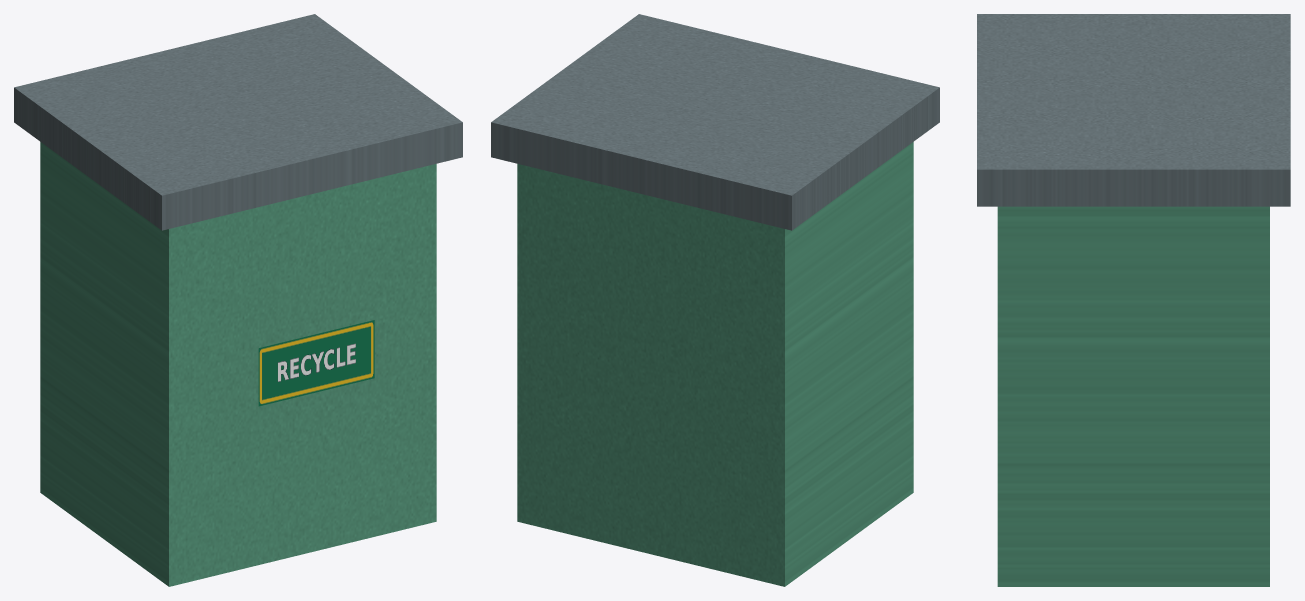
File: recycling_bin.glb
3 views of the same model, side by side, from view 1: azimuth 30°, elevation 25°; view 2: azimuth 150°, elevation 25°; view 3: azimuth 270°, elevation 25° (orthographic). The views are drawn at different scales.
Parts seen in each view (by area): view 1: world, D0_bin_recycle_badge_decal; view 2: world; view 3: world.
Boxes of the visible parts, box(x1,y1,x2,y2) form: world: box(14, 14, 462, 586); D0_bin_recycle_badge_decal: box(258, 320, 374, 406); world: box(491, 14, 939, 586); world: box(977, 14, 1290, 586).
Size of the model in its own units: 1.35 by 1.72 by 1.18.
3 materials, 3 textured.
